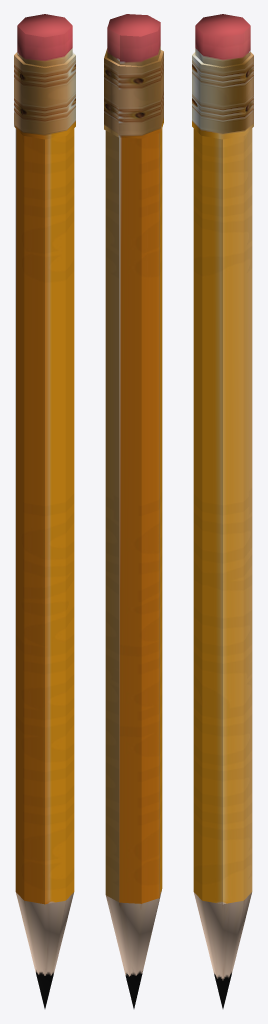
The model's file is pencil.glb.
3 renders of one model, left to right at view 1: azimuth 90°, elevation 25°; view 2: azimuth 150°, elevation 25°; view 3: azimuth 270°, elevation 25°, orthographic.
Parts seen in each view (by area): view 1: Pencil:headusOBJexport; view 2: Pencil:headusOBJexport; view 3: Pencil:headusOBJexport.
Part boxes in pixels (x1,y1,x2,y2): Pencil:headusOBJexport: [14, 14, 75, 1008]; Pencil:headusOBJexport: [104, 14, 163, 1008]; Pencil:headusOBJexport: [192, 14, 253, 1008].
Size of the model in its own units: 1.11 by 19.54 by 1.11.
1 material, 1 textured.
